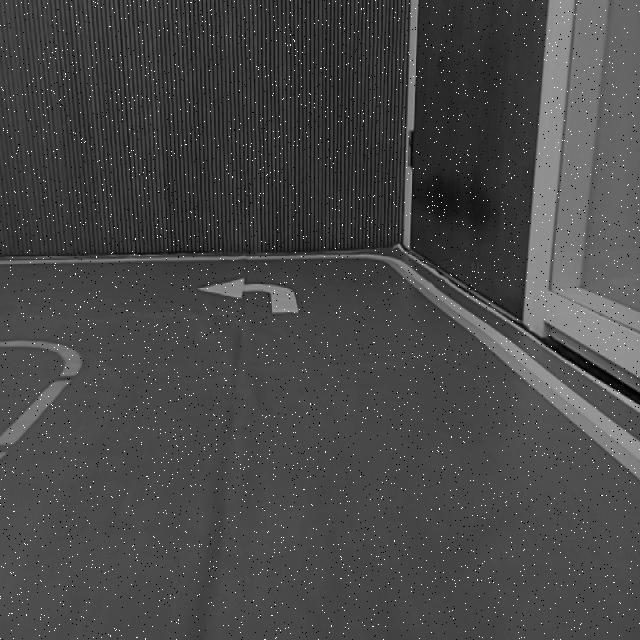left_lane: (0, 363, 83, 463)
right_lane: (385, 260, 640, 478)
